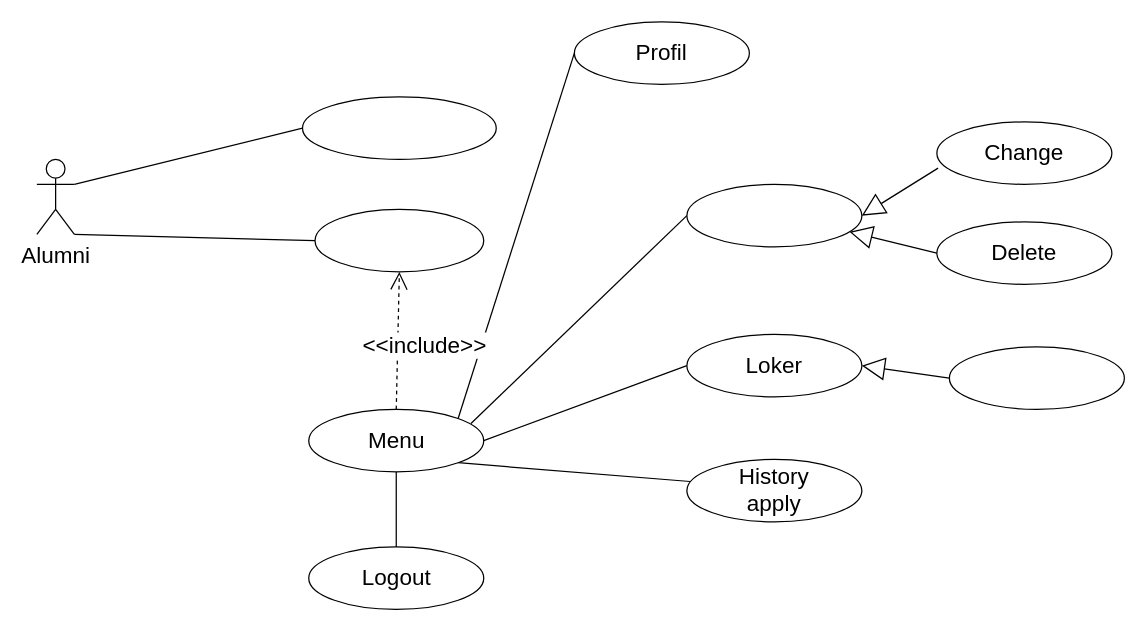
Some shapes in this 1146 by 631 pixel diagram are drawn without their labels. Each missing label, with the box of its shape:
Apply: (948, 346, 1124, 409)
Data alumni: (686, 183, 862, 247)
Login: (314, 208, 484, 272)
Registrasi: (301, 96, 496, 159)
